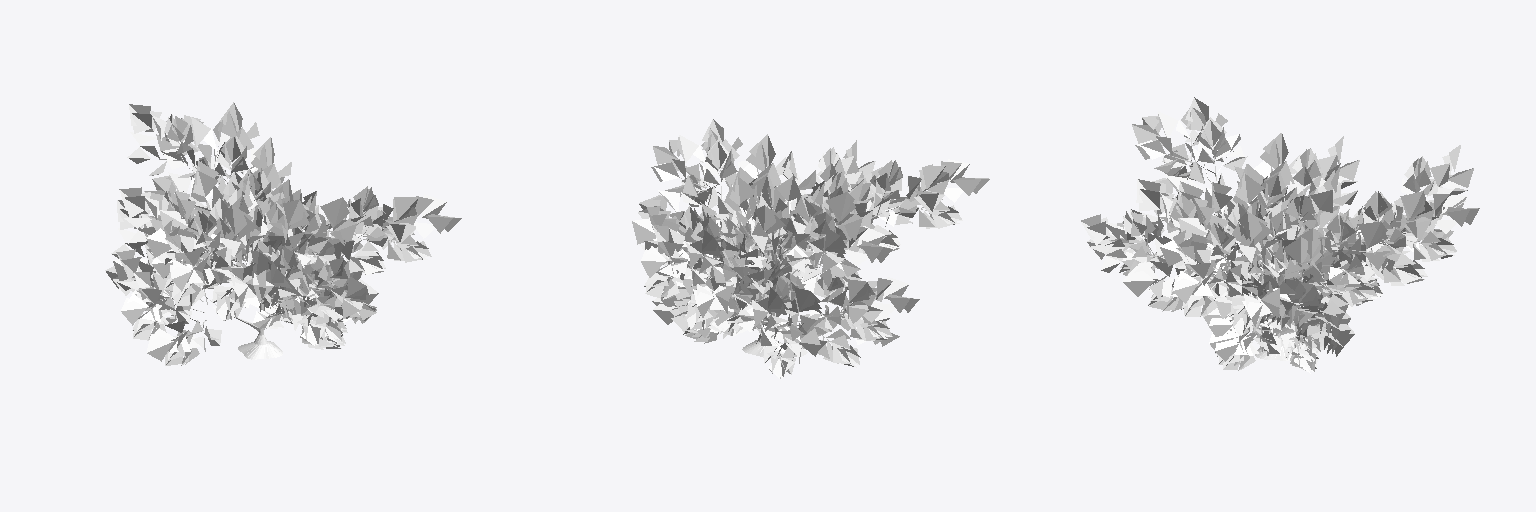
Rendered from bush6.obj.
3 views of the same model, side by side, from view 1: azimuth 30°, elevation 25°; view 2: azimuth 150°, elevation 25°; view 3: azimuth 270°, elevation 25° (orthographic).
Visible parts, largest first — view 1: tree; view 2: tree; view 3: tree.
Boxes of the visible parts, x1=… form: tree: x1=105, y1=102, x2=461, y2=365; tree: x1=632, y1=119, x2=989, y2=378; tree: x1=1081, y1=97, x2=1479, y2=373.
Bounding box in the file's own units: 171 × 100 × 193.